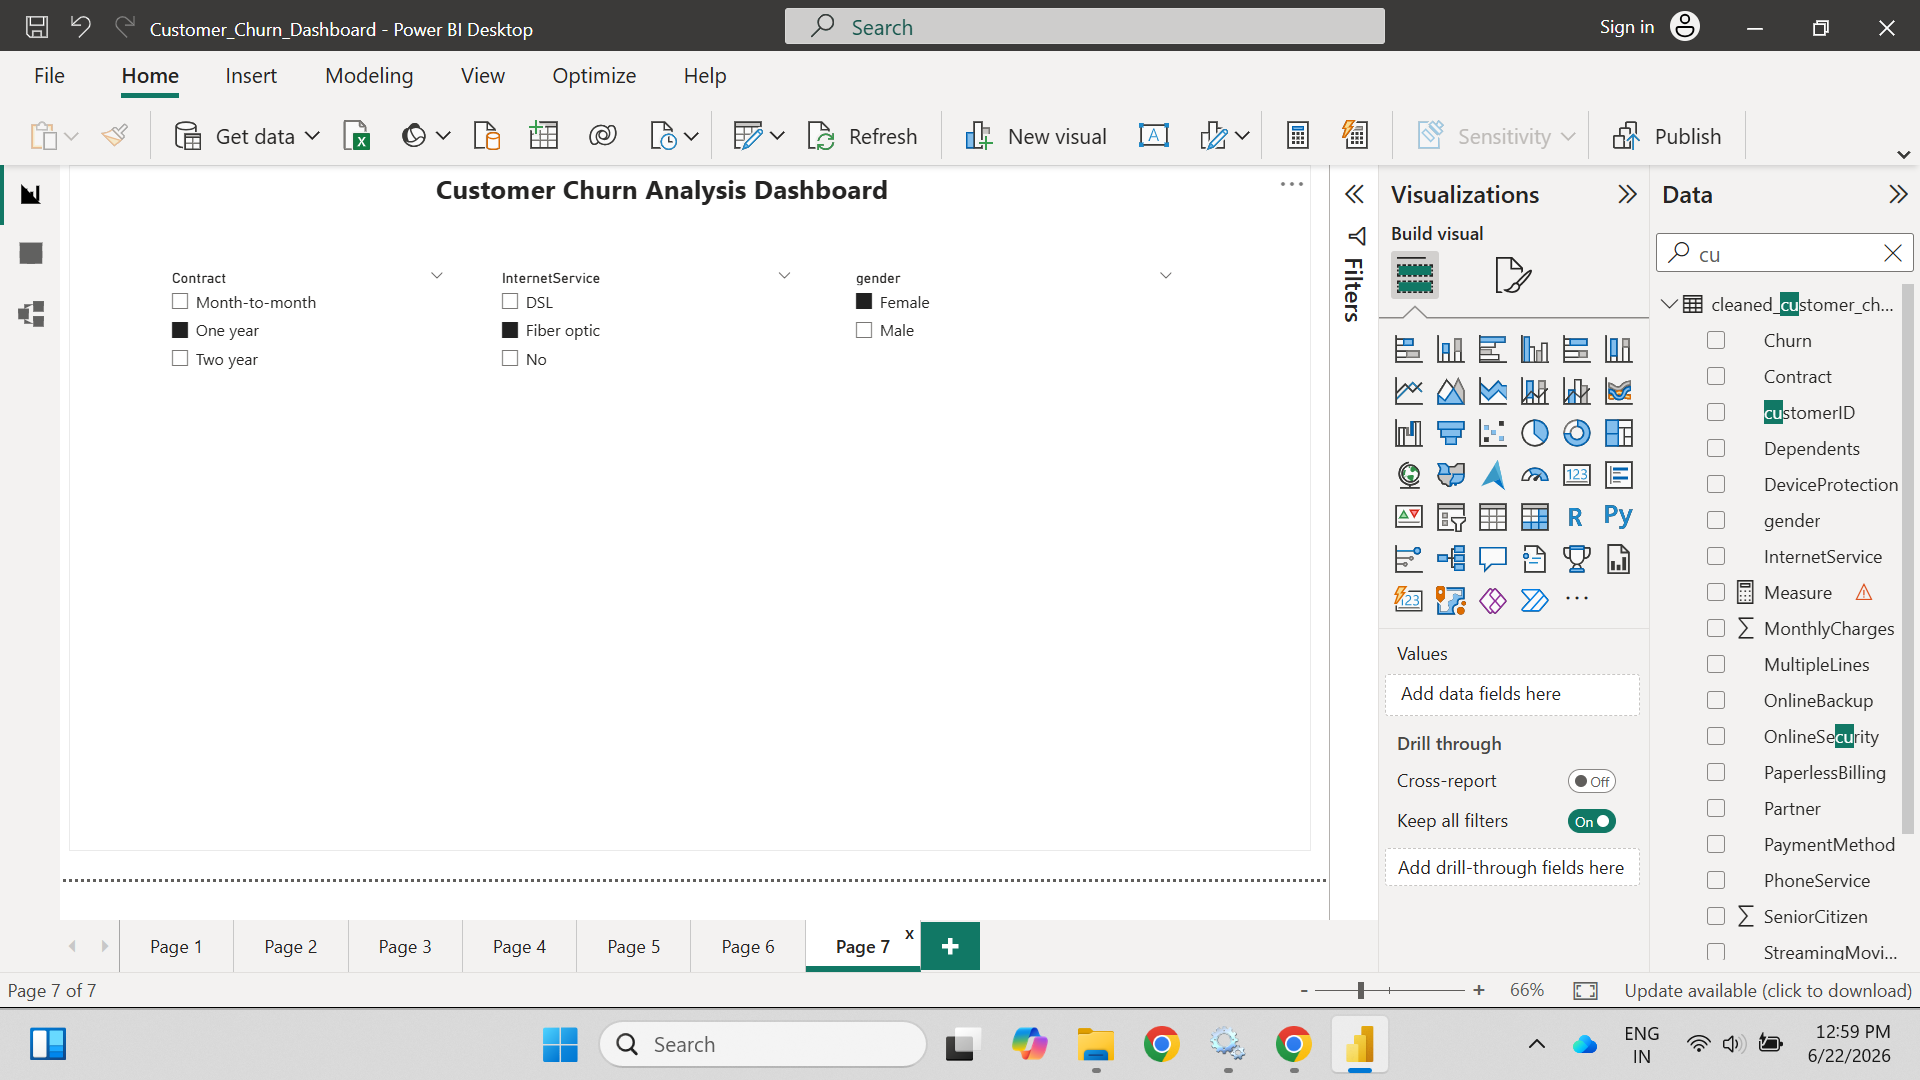

The page's visual inventory and layout, read from the dashboard file:
{"tool":"powerbi","page":{"name":"Page 7","canvas":[1280,720],"ordinal":6},"visuals":[{"type":"textbox","box":[9.7,0,1252.3,690.9],"z":0},{"type":"slicer","fields":{"Values":["cleaned_customer_churn.Contract"]},"box":[100.3,100.3,299.3,351.1],"z":1},{"type":"slicer","fields":{"Values":["cleaned_customer_churn.InternetService"]},"box":[432,100.3,317.1,351.1],"z":2},{"type":"slicer","fields":{"Values":["cleaned_customer_churn.gender"]},"box":[789.6,100.3,344.6,351.1],"z":3}]}

Visuals, with their boxes on the page's 1280x720 design canvas (x1, y1, x2, y2). These are canvas units, not pixel positions in the 1920x1080 screenshot, which may show the page scaled, cropped or inside an application window:
textbox: <bbox>10, 0, 1262, 691</bbox>
slicer - cleaned_customer_churn.Contract: <bbox>100, 100, 400, 451</bbox>
slicer - cleaned_customer_churn.InternetService: <bbox>432, 100, 749, 451</bbox>
slicer - cleaned_customer_churn.gender: <bbox>790, 100, 1134, 451</bbox>
